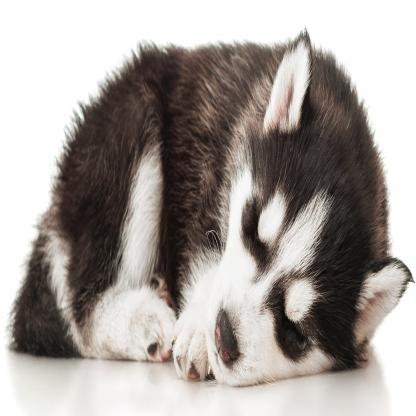dog: (17, 36, 406, 382)
